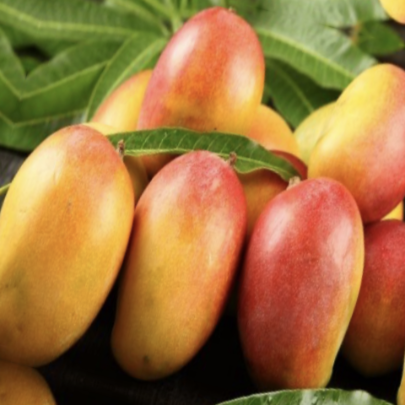mango: (201, 137, 401, 405), (0, 89, 166, 383), (89, 140, 275, 402), (116, 0, 297, 199)
